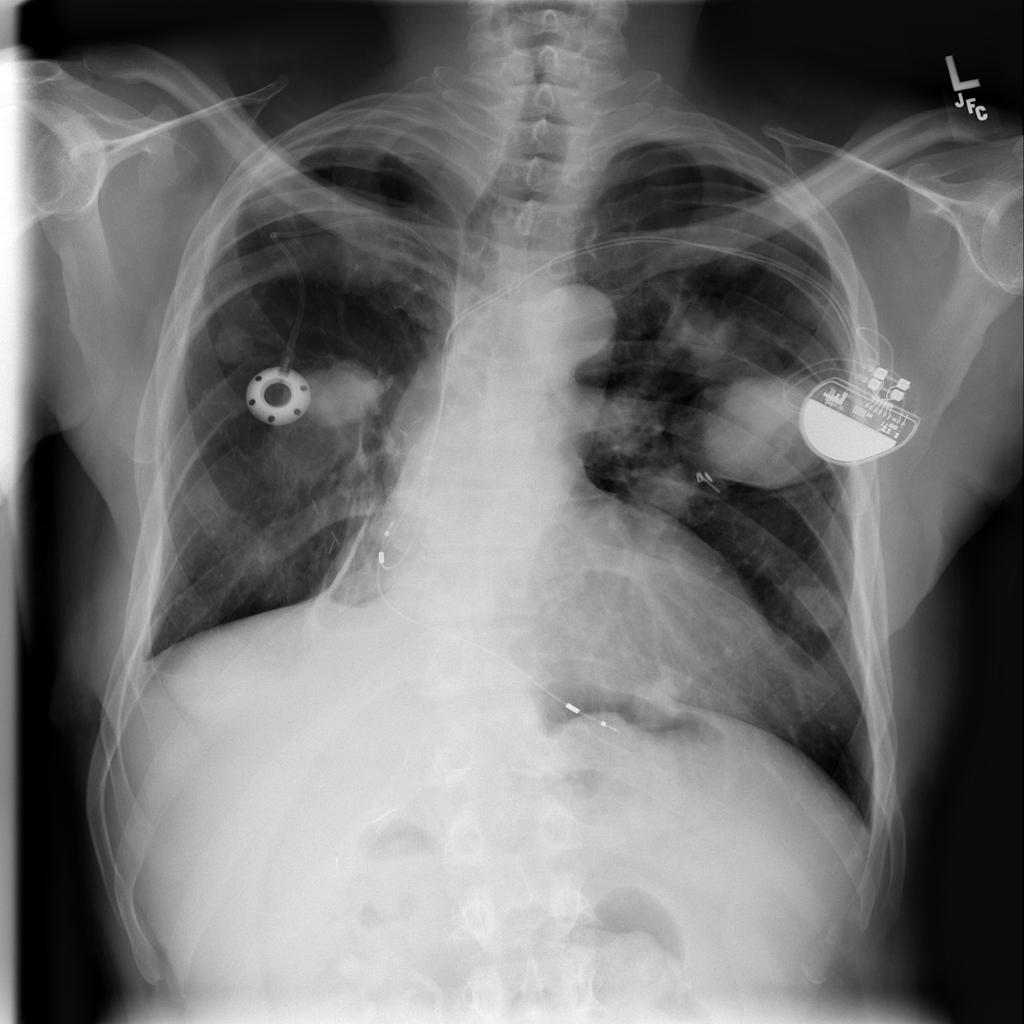nodule: (675, 355, 837, 506), (310, 335, 400, 450), (584, 383, 670, 458), (663, 300, 751, 372), (621, 452, 710, 523), (776, 567, 856, 645), (623, 655, 699, 732), (769, 273, 850, 338), (690, 228, 777, 287), (197, 311, 271, 376)
